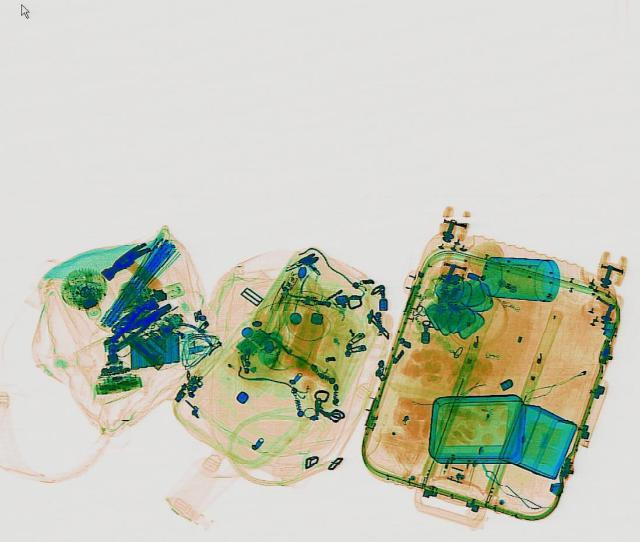Pliers: (91, 288, 175, 352)
